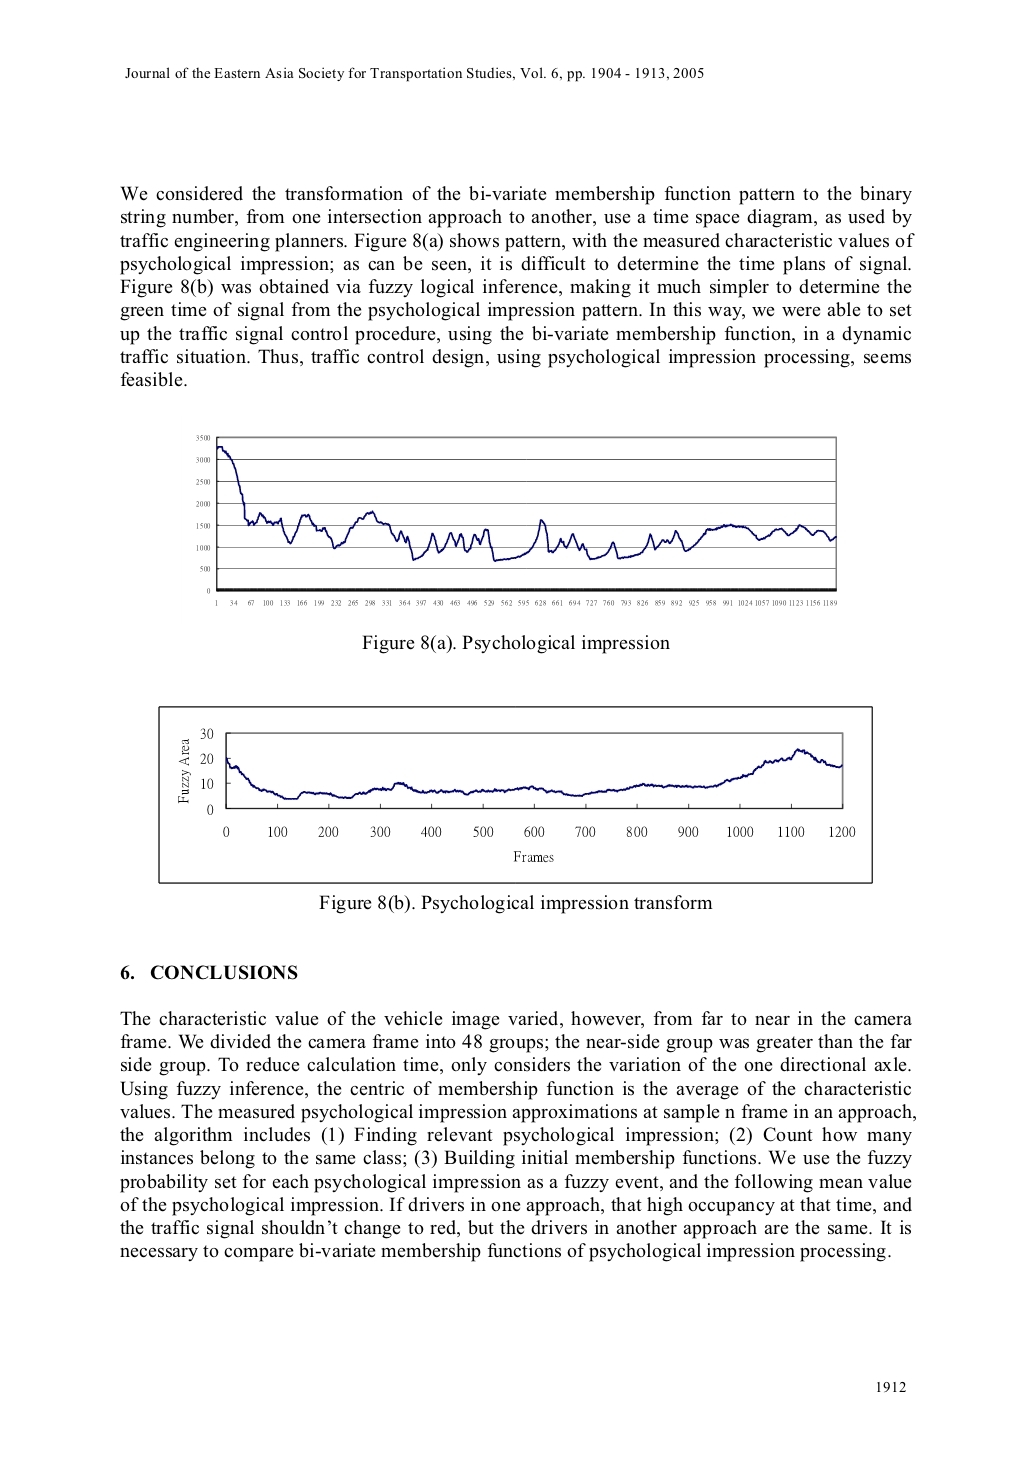figure: (158, 705, 873, 885), (196, 435, 836, 605)
